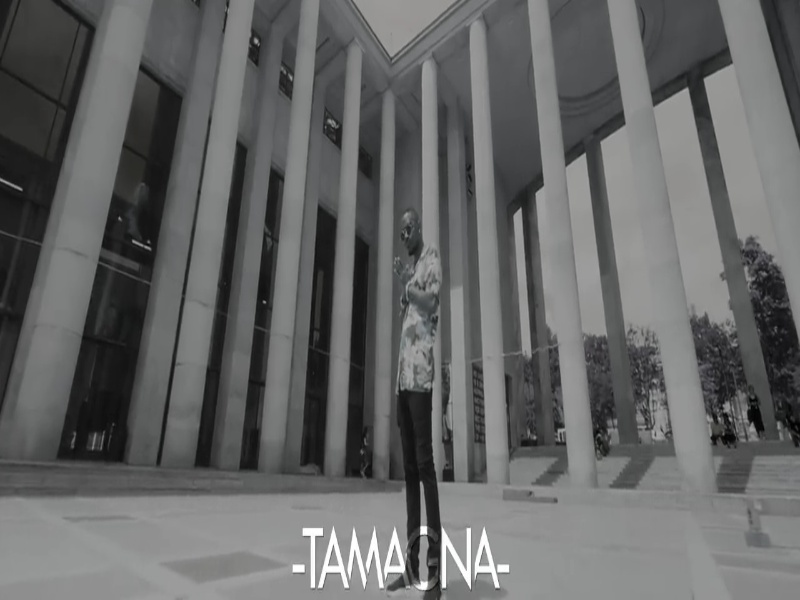TsisyArotava: (389, 207, 439, 265)
